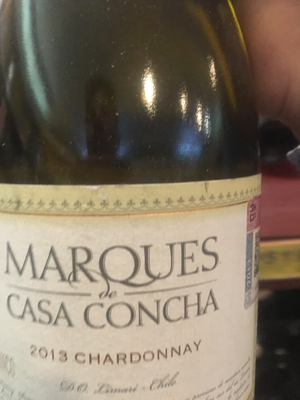marques de casa concha chardonnay: (3, 29, 273, 400)
